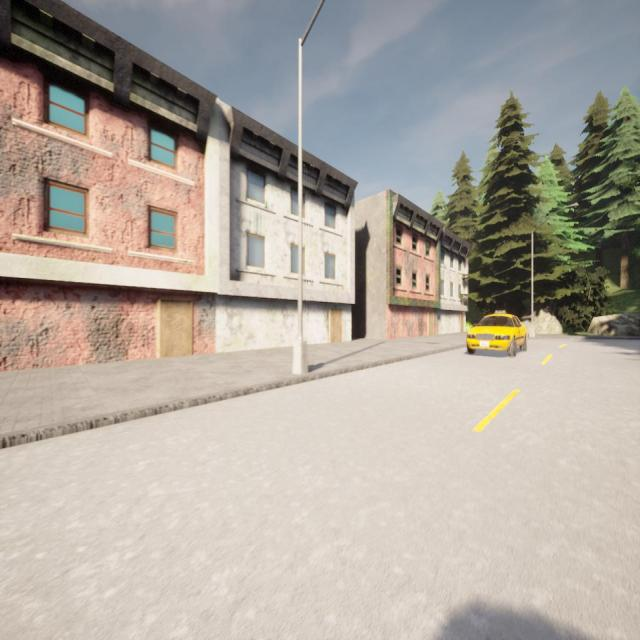Vehicle: (467, 311, 527, 356)
